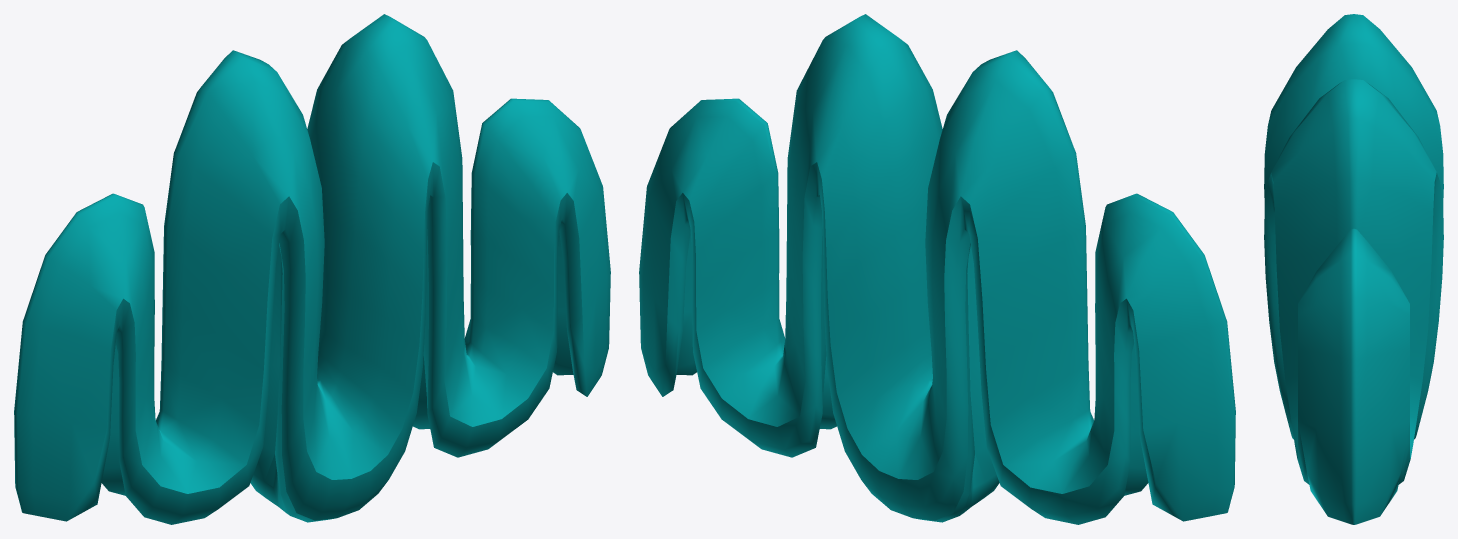
Rendered from bush_1.glb.
The picture shows the model from 3 angles, left to right: view 1: azimuth 30°, elevation 25°; view 2: azimuth 150°, elevation 25°; view 3: azimuth 270°, elevation 25°; orthographic projection. The views are drawn at different scales.
Visible parts, largest first — view 1: Bush_1; view 2: Bush_1; view 3: Bush_1.
Part boxes in pixels (<box>): Bush_1: <box>14,14,610,524</box>; Bush_1: <box>639,14,1235,524</box>; Bush_1: <box>1264,14,1443,524</box>.
Size of the model in its own units: 3.26 by 2.48 by 0.9793.
1 material, 1 textured.
